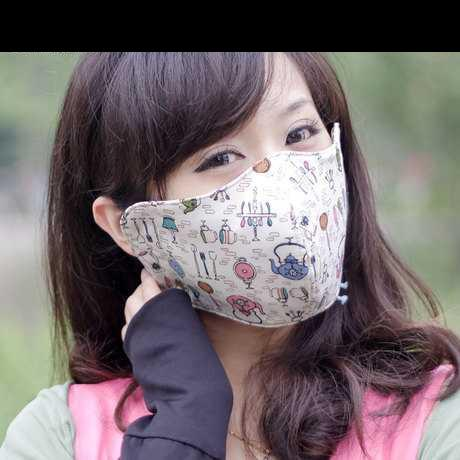OK: (152, 100, 347, 316)
